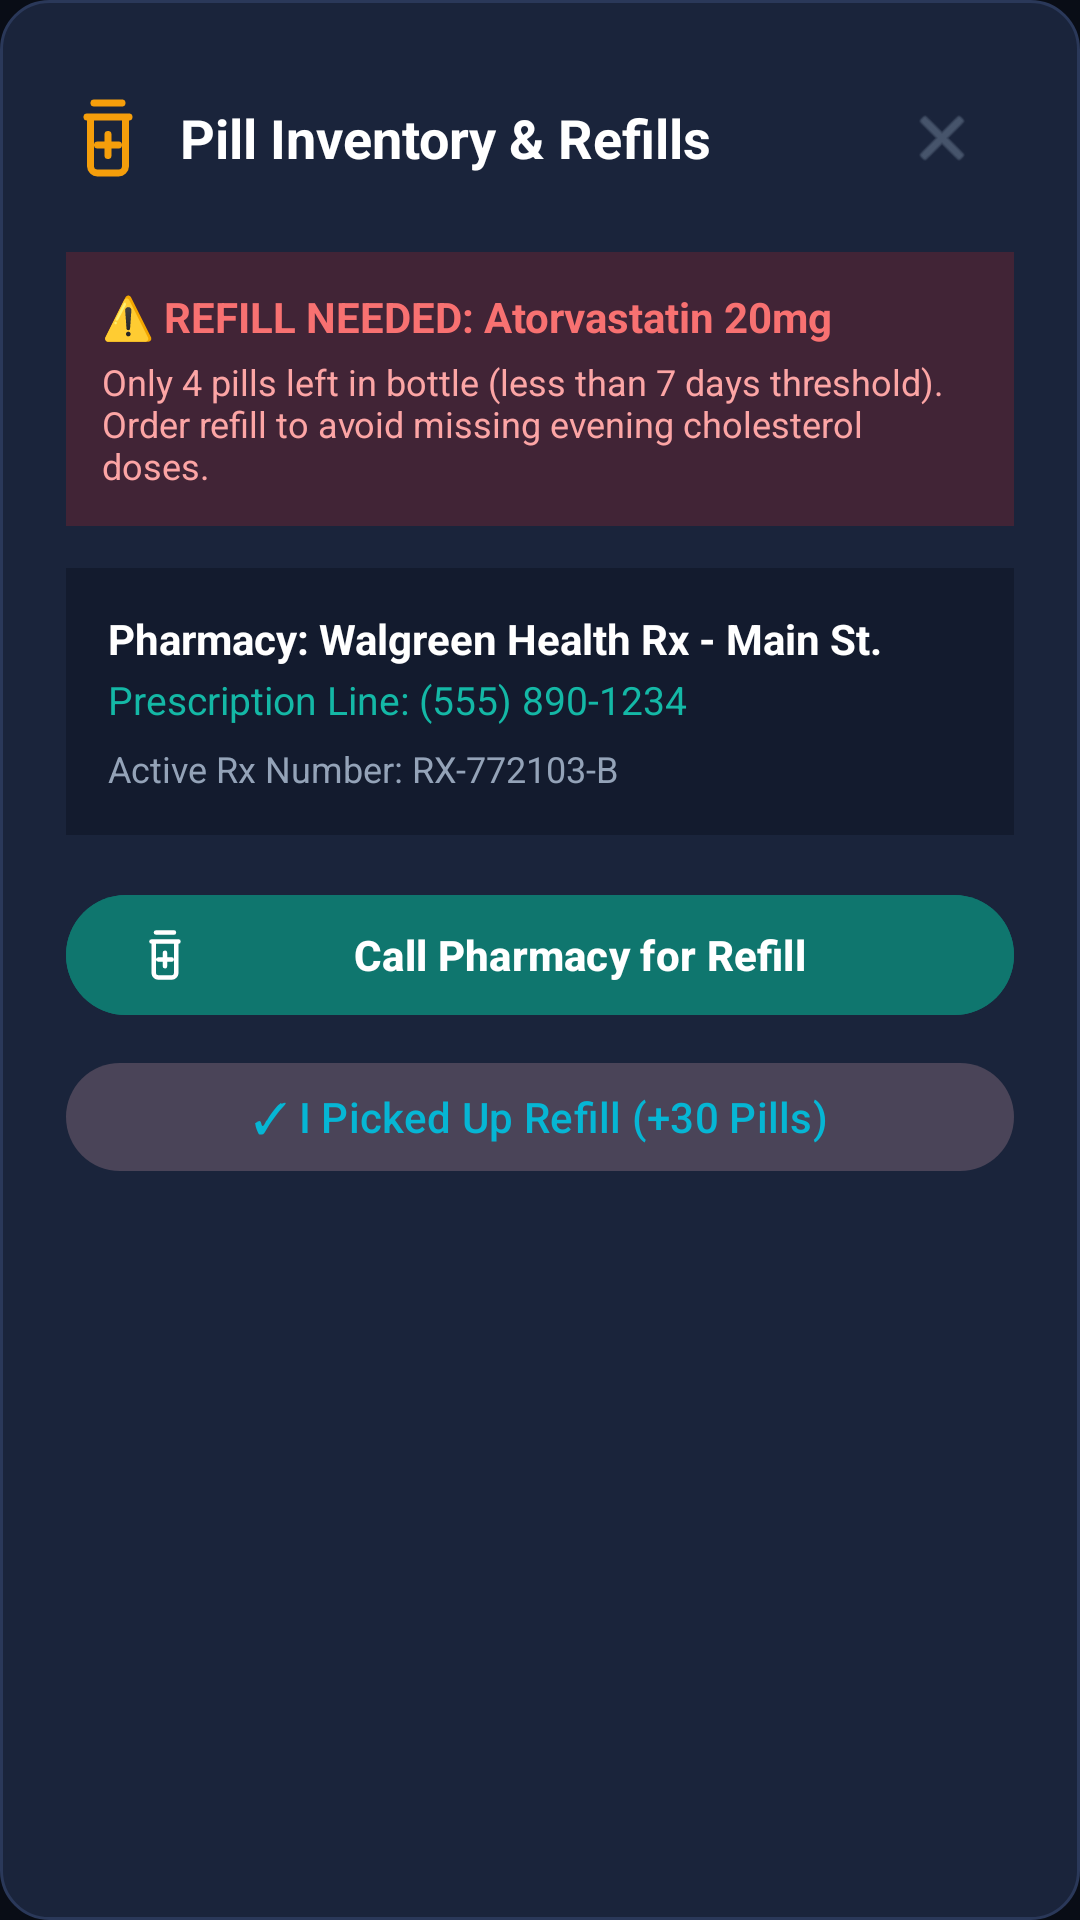

Icon bounding boxes for this 1080px x 1920px phone screenshot, format box=[x1, y1, x2, y2]:
Close Refill Tracker: box=[920, 116, 964, 160]
